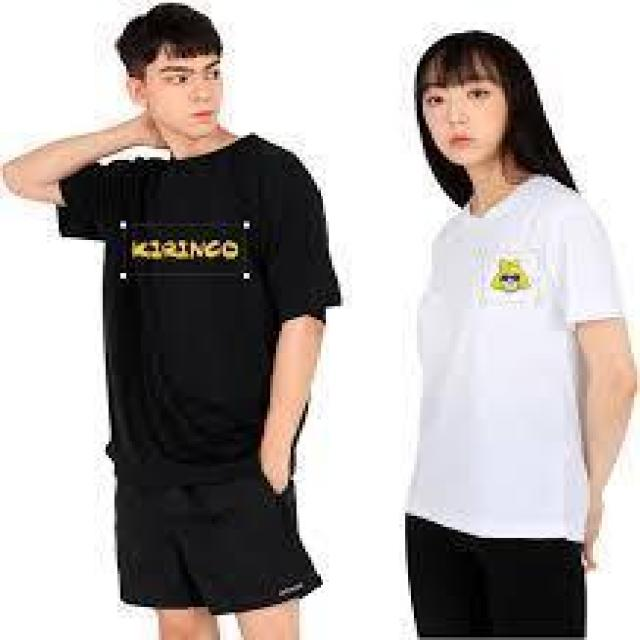Tshirt: (37, 130, 342, 488), (396, 170, 640, 548)
short: (116, 471, 327, 616)
